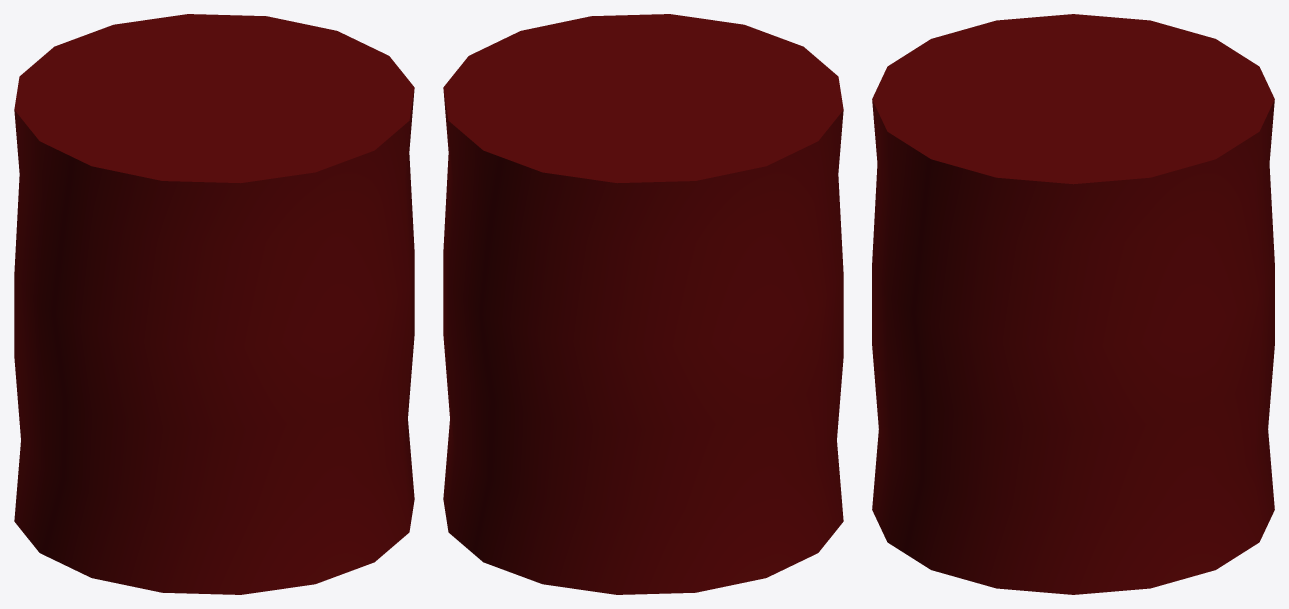
Rendered from Barrel.fbx.
3 views of the same model, side by side, from view 1: azimuth 30°, elevation 25°; view 2: azimuth 150°, elevation 25°; view 3: azimuth 270°, elevation 25° (orthographic).
Parts seen in each view (by area): view 1: Barrel; view 2: Barrel; view 3: Barrel.
Part boxes in pixels (x1,y1,x2,y2): Barrel: (14, 14, 414, 594); Barrel: (443, 14, 843, 594); Barrel: (872, 14, 1274, 594).
Size of the model in its own units: 16.72 by 18.82 by 16.72.
